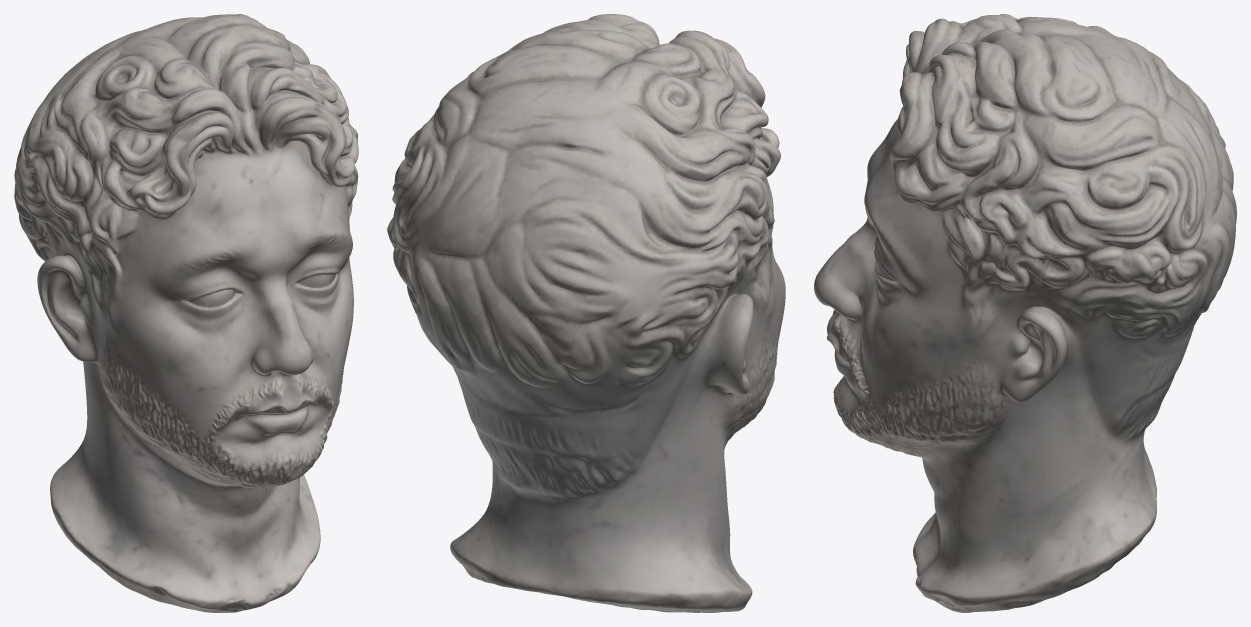
Rendered from head.glb.
The picture shows the model from 3 angles, left to right: view 1: azimuth 30°, elevation 25°; view 2: azimuth 150°, elevation 25°; view 3: azimuth 270°, elevation 25°; orthographic projection. The views are drawn at different scales.
Visible parts, largest first — view 1: world; view 2: world; view 3: world.
Part boxes in pixels (box(x1,y1,x2,y2)): world: box(14, 14, 358, 612); world: box(387, 14, 785, 612); world: box(814, 14, 1236, 612).
Size of the model in its own units: 0.5716 by 1 by 0.6809.
1 material, 1 textured.
